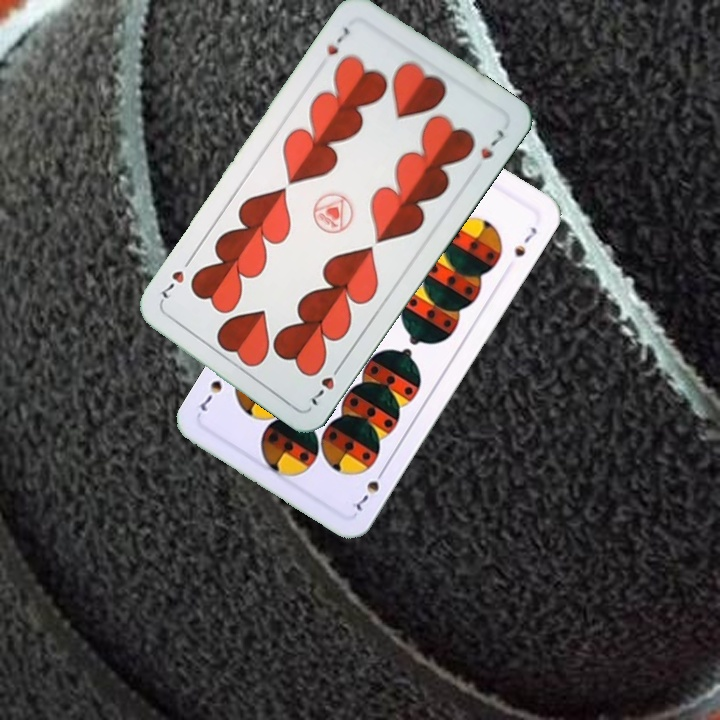H7: (303, 359, 346, 409), (322, 22, 353, 58)
S7: (348, 463, 389, 514)
